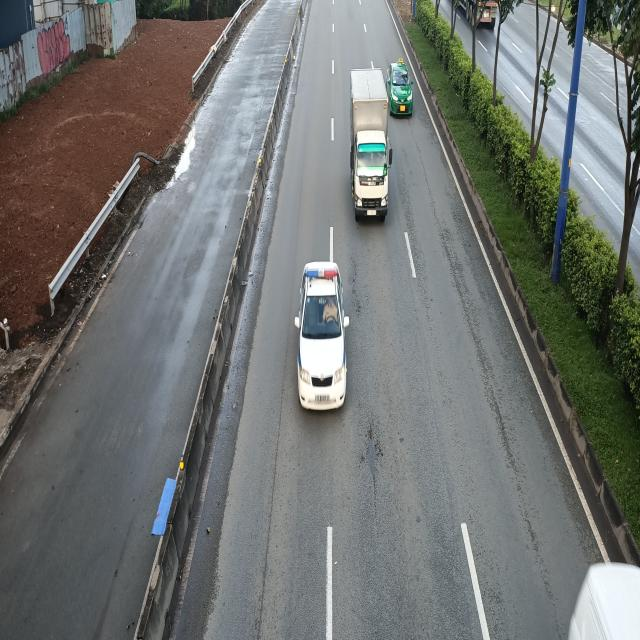car: (297, 263, 350, 413), (384, 60, 414, 116)
truck: (348, 68, 392, 220)
